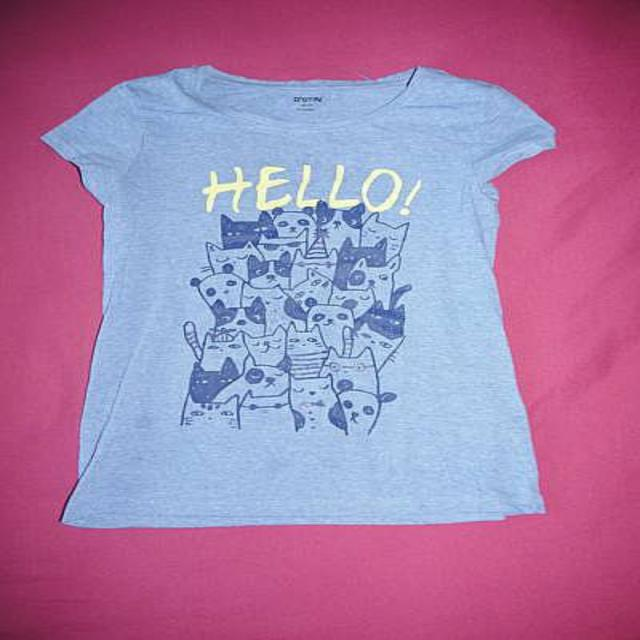T_SHIRT: (32, 59, 565, 535)
